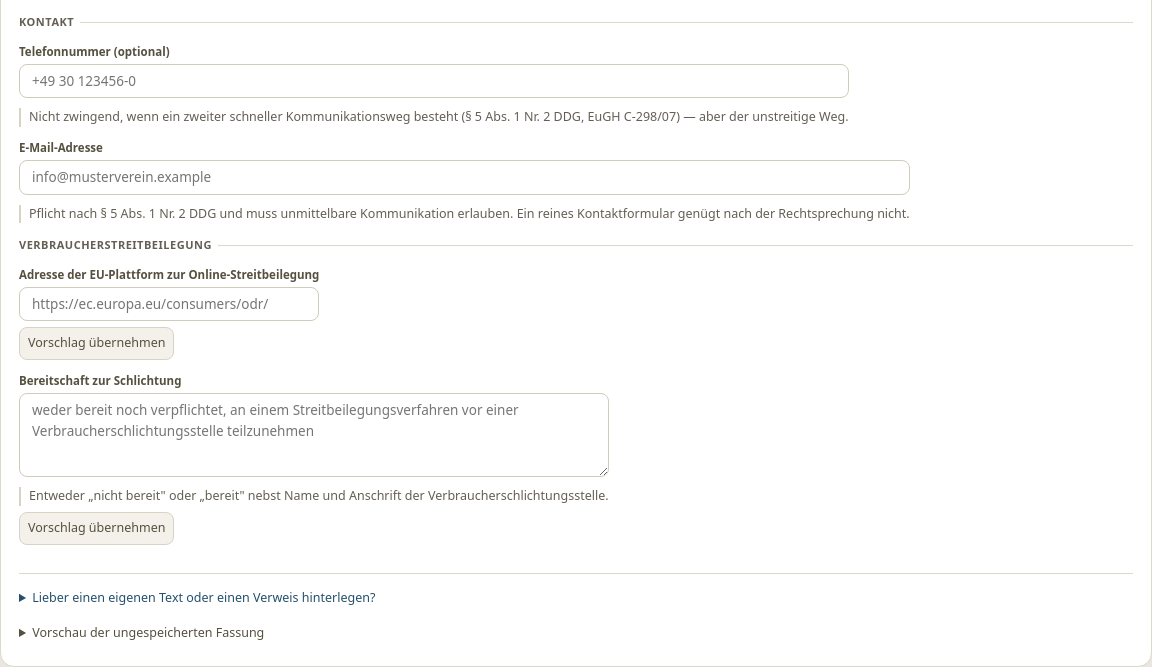
Test: der Rechtstext-Editor › schreibt einen Standardtext erst auf Klick ins Feld
(page scrolled)
Check: the field labelled "Adresse der EU-Plattform zur Online-Streitbeilegung" is empty, box [19, 287, 319, 322]
Click the button named "Vorschlag übernehmen — Adresse der EU-Plattform zur Online-Streitbeilegung": (97, 344) [19, 327, 174, 360]
(page scrolled)
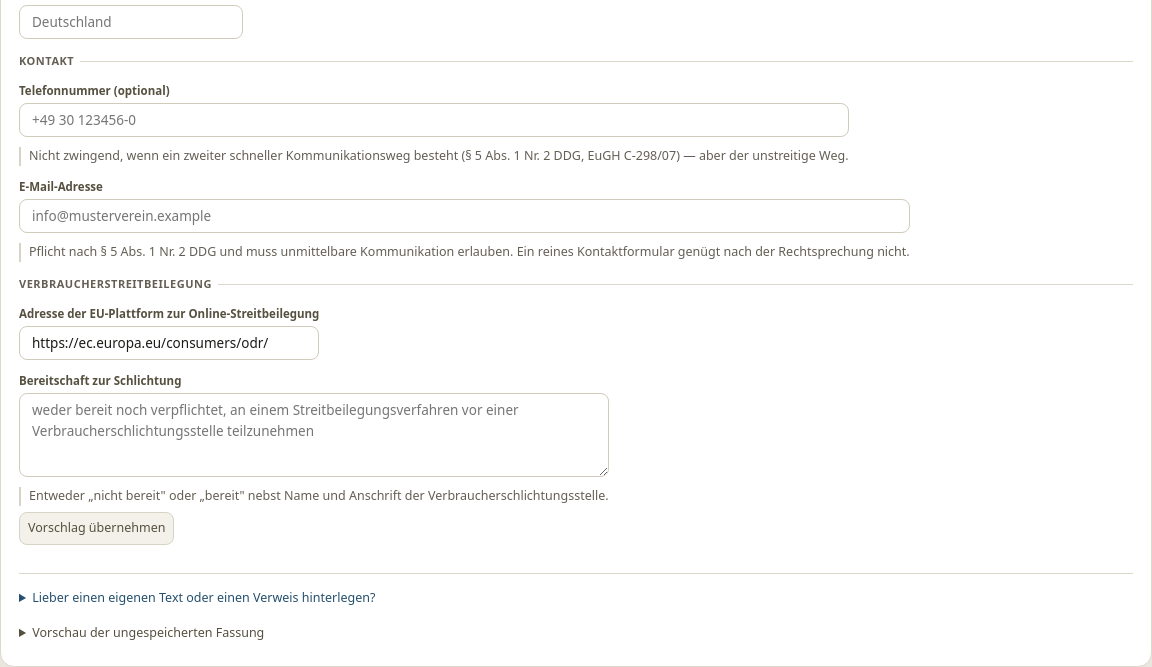
Check: the button "Vorschlag übernehmen — Adresse der EU-Plattform zur Online-Streitbeilegung" is not shown
Check: the field labelled "Adresse der EU-Plattform zur Online-Streitbeilegung" holds "https://ec.europa.eu/consumers/odr/", box [19, 326, 319, 360]
